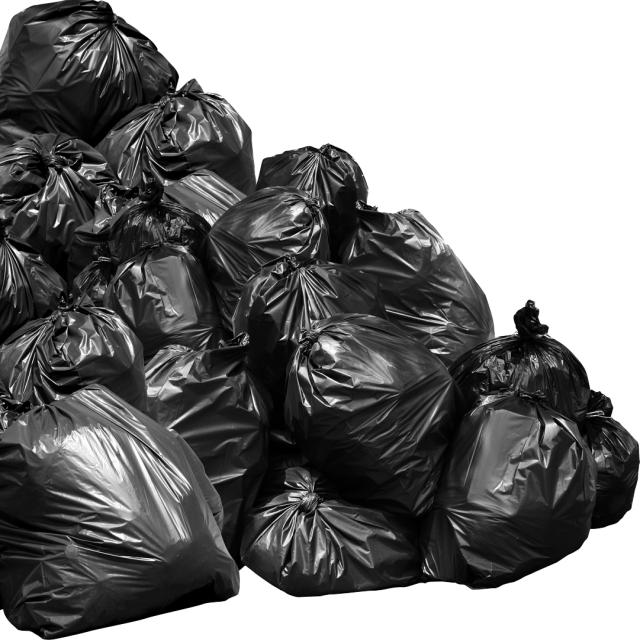Single-layer Plastic: (0, 384, 239, 638), (285, 314, 465, 516), (419, 393, 596, 588), (145, 333, 272, 560), (0, 0, 178, 145), (339, 202, 494, 366), (232, 255, 388, 404), (241, 467, 421, 596), (0, 296, 149, 430), (201, 186, 330, 329), (96, 79, 256, 193), (69, 178, 210, 305), (449, 301, 590, 424), (0, 133, 118, 275), (104, 243, 226, 359), (256, 143, 368, 254), (0, 208, 68, 342), (581, 391, 640, 528)
